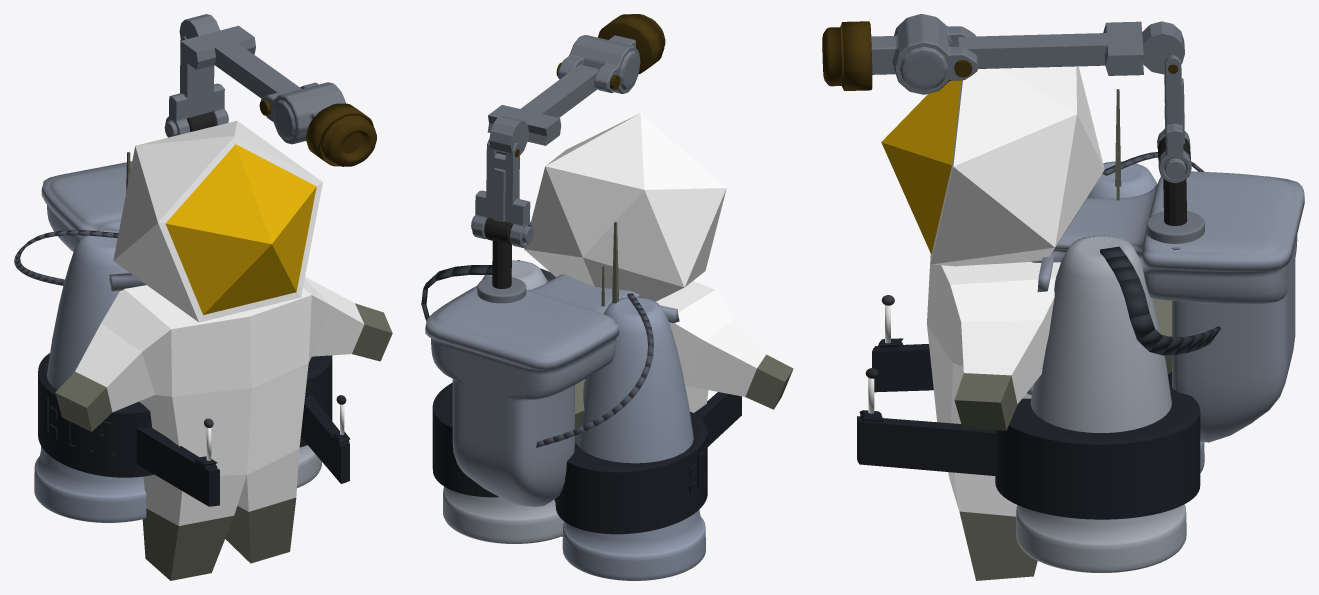
The model's file is Astronauta con jetpack y brazo.fbx.
3 views of the same model, side by side, from view 1: azimuth 30°, elevation 25°; view 2: azimuth 150°, elevation 25°; view 3: azimuth 270°, elevation 25° (orthographic). The views are drawn at different scales.
Visible parts, largest first — view 1: Player, Cylinder.002, Cylinder, Cube, Cylinder.018, Cylinder.022, Cylinder.019, Cylinder.021, Plane, Cylinder.001; view 2: Player, Cube, Cylinder, Cylinder.002, Cylinder.001, Cylinder.018, Cylinder.019, Cylinder.021, Cylinder.022, Plane, Cylinder.020, Cylinder.005 (+2 smaller); view 3: Player, Cube, Cylinder.002, Cylinder.001, Cylinder.018, Cylinder.021, Plane.001, Cylinder.022, Cylinder.019, Cylinder, Cylinder.020, Cylinder.005.
Boxes of the visible parts, box(x1,y1,x2,y2) form: Player: box(55, 121, 392, 580); Cylinder.002: box(38, 353, 349, 506); Cylinder: box(34, 229, 146, 522); Cube: box(41, 161, 145, 291); Cylinder.018: box(179, 14, 301, 98); Cylinder.022: box(306, 103, 376, 166); Cylinder.019: box(164, 36, 228, 137); Cylinder.021: box(261, 82, 345, 144); Plane: box(14, 230, 118, 285); Cylinder.001: box(297, 445, 321, 487); Player: box(524, 113, 793, 536); Cube: box(425, 260, 679, 507); Cylinder: box(562, 297, 705, 580); Cylinder.002: box(432, 382, 741, 534); Cylinder.001: box(443, 260, 564, 543); Cylinder.018: box(487, 64, 598, 155); Cylinder.019: box(471, 138, 533, 247); Cylinder.021: box(558, 35, 640, 93); Cylinder.022: box(598, 14, 665, 73); Plane: box(536, 293, 653, 447); Cylinder.020: box(477, 277, 526, 303); Cylinder.005: box(492, 241, 511, 288); Player: box(881, 66, 1171, 580); Cube: box(1026, 171, 1304, 442); Cylinder.002: box(857, 338, 1200, 519); Cylinder.001: box(1016, 235, 1186, 572); Cylinder.018: box(950, 21, 1184, 75); Cylinder.021: box(871, 14, 977, 94); Plane.001: box(1100, 246, 1221, 355); Cylinder.022: box(822, 21, 872, 90); Cylinder.019: box(1157, 55, 1191, 183); Cylinder: box(1087, 161, 1204, 472); Cylinder.020: box(1146, 211, 1204, 243); Cylinder.005: box(1163, 178, 1187, 225).
Bounding box in the file's own units: 363 × 510 × 401.
